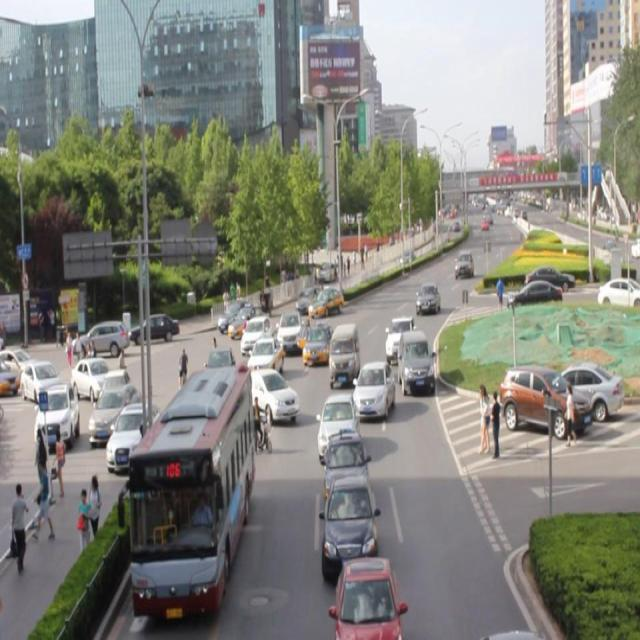BigCar: (131, 354, 260, 618)
car: (498, 366, 582, 442), (334, 550, 402, 640), (321, 482, 382, 562), (31, 379, 76, 446), (249, 366, 301, 418), (70, 320, 129, 364), (110, 402, 152, 463), (398, 328, 438, 388), (88, 388, 128, 448), (317, 431, 366, 479), (354, 360, 396, 415), (317, 390, 360, 437), (330, 324, 360, 382), (73, 359, 111, 402), (131, 312, 176, 348), (508, 283, 560, 313), (600, 272, 638, 312), (414, 278, 445, 318), (248, 331, 281, 368), (302, 325, 328, 371), (310, 286, 344, 318), (277, 306, 304, 346)
